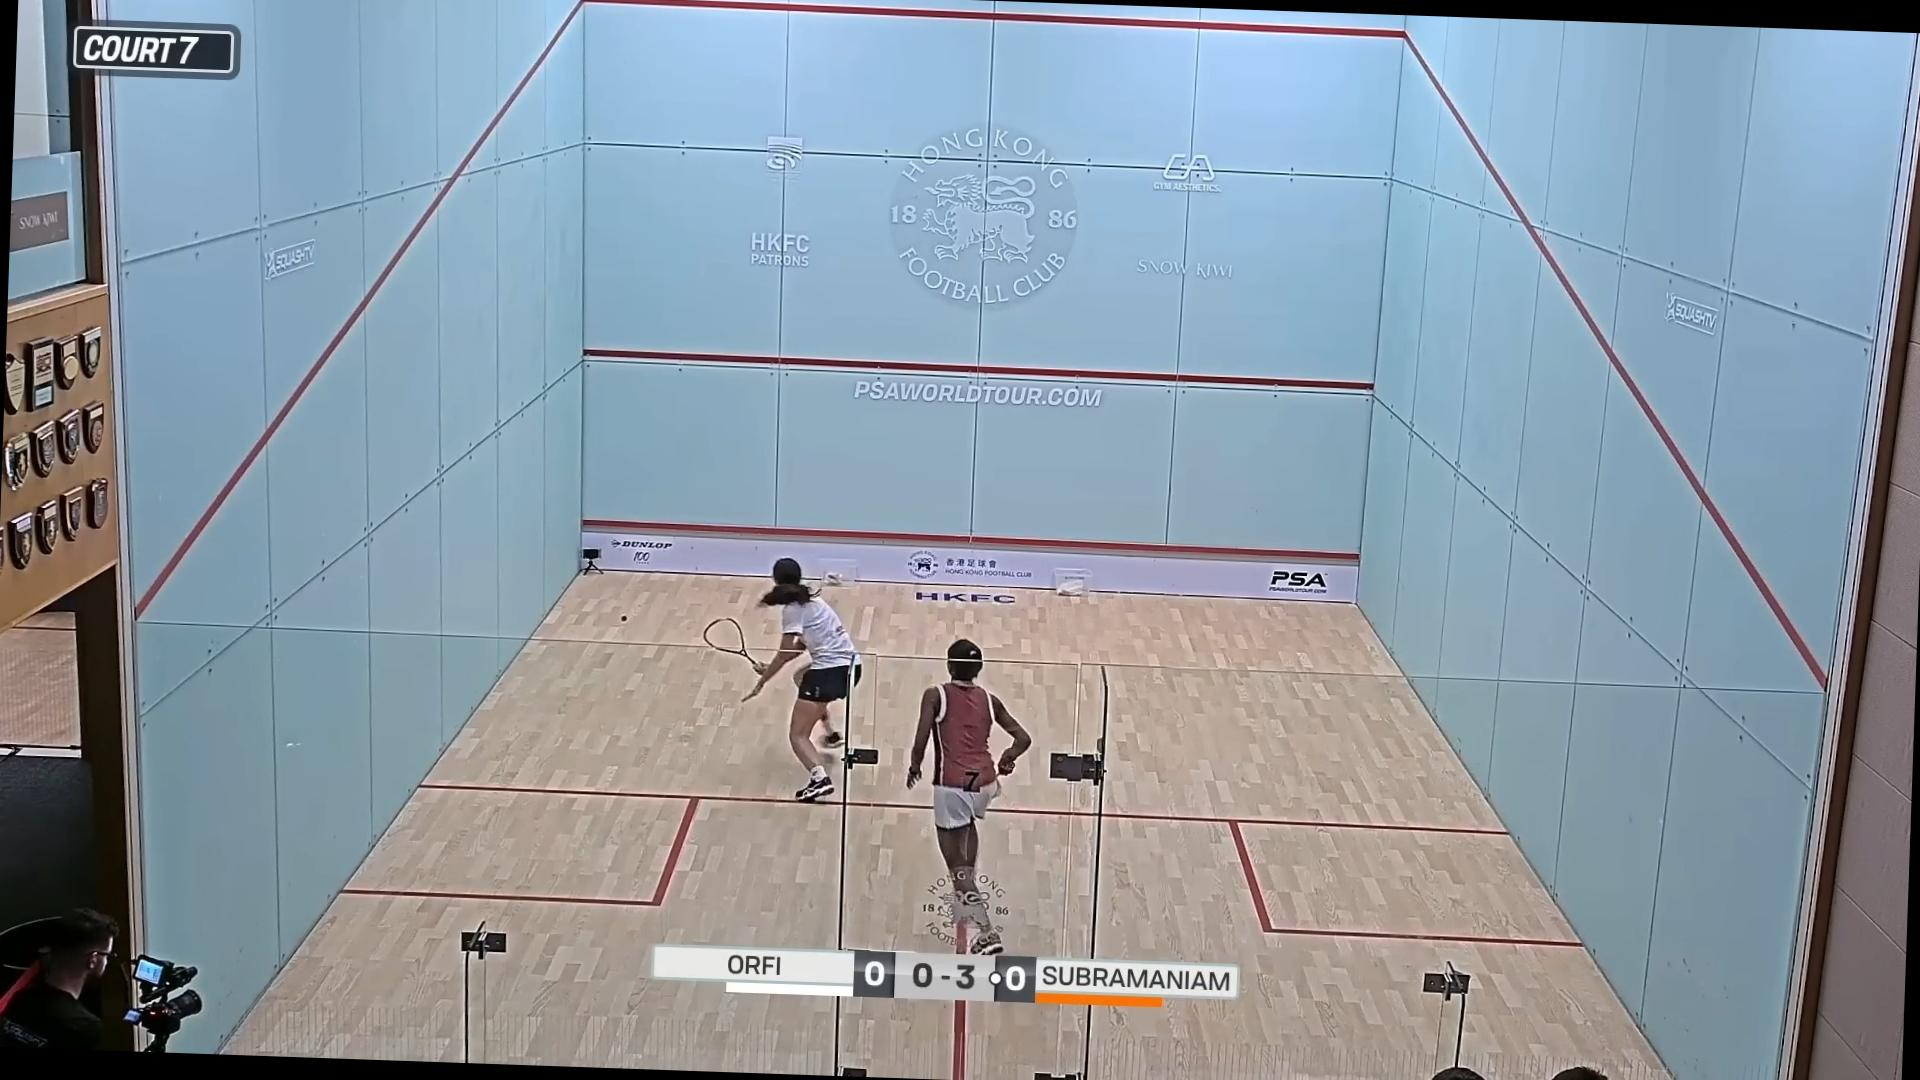Squash-Ball: (612, 608, 636, 630)
